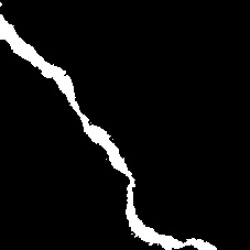crack: (0, 14, 218, 249)
